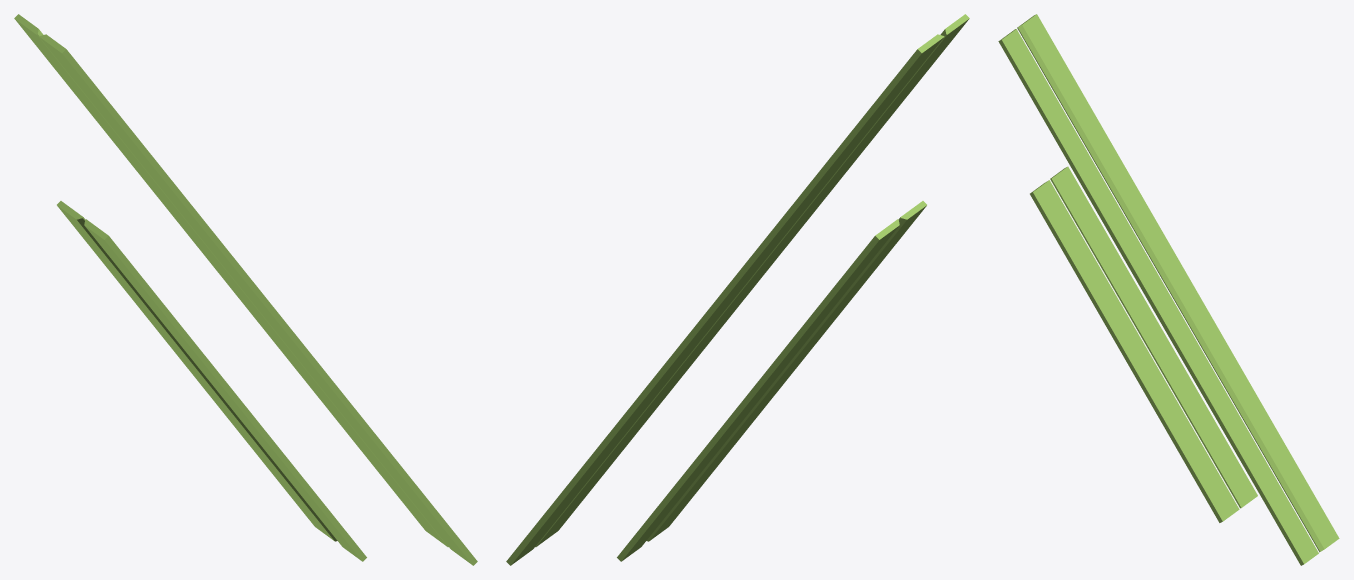
The model's file is model-part.gltf_curtainwalls_allFloors (1).gltf.
3 renders of one model, left to right at view 1: azimuth 30°, elevation 25°; view 2: azimuth 150°, elevation 25°; view 3: azimuth 330°, elevation 25°, orthographic. The views are drawn at different scales.
Bounding box in the file's own units: 1.46 × 2.07 × 0.2917.
